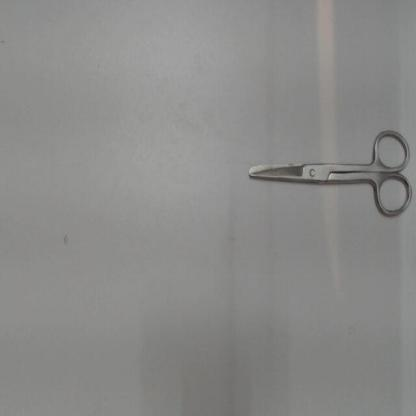Dressing Scissors: (245, 120, 413, 227)
